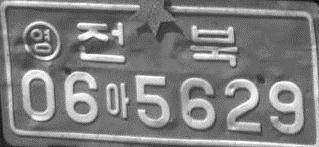0: (21, 69, 56, 121)
2: (223, 77, 263, 134)
5: (134, 74, 171, 128)
6: (179, 76, 216, 131), (64, 70, 99, 125)
9: (268, 80, 305, 135)
아: (105, 81, 130, 120)
영: (21, 20, 60, 60)
전북_D: (76, 22, 239, 67)
